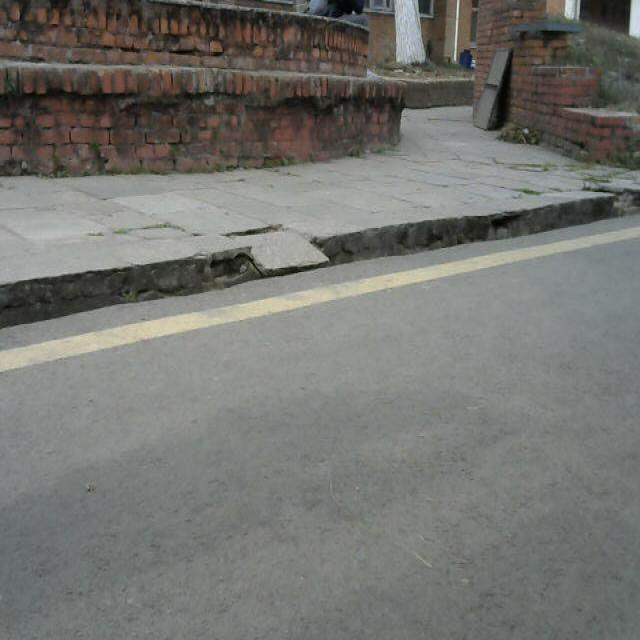Road: (0, 219, 640, 640)
